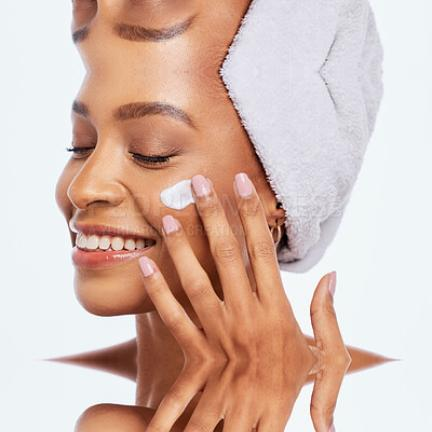Nail: (235, 171, 253, 197), (192, 174, 211, 197), (138, 256, 154, 277), (162, 214, 178, 233), (329, 271, 336, 296), (329, 422, 336, 432)
